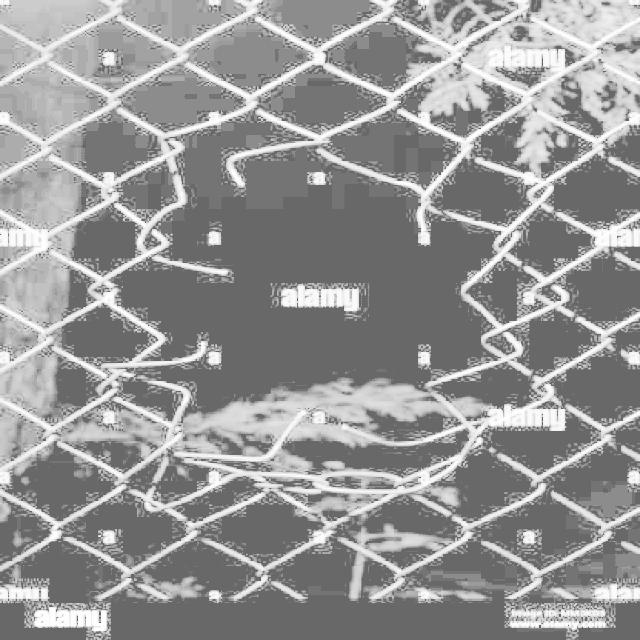anomaly-fence: (74, 74, 586, 534)
